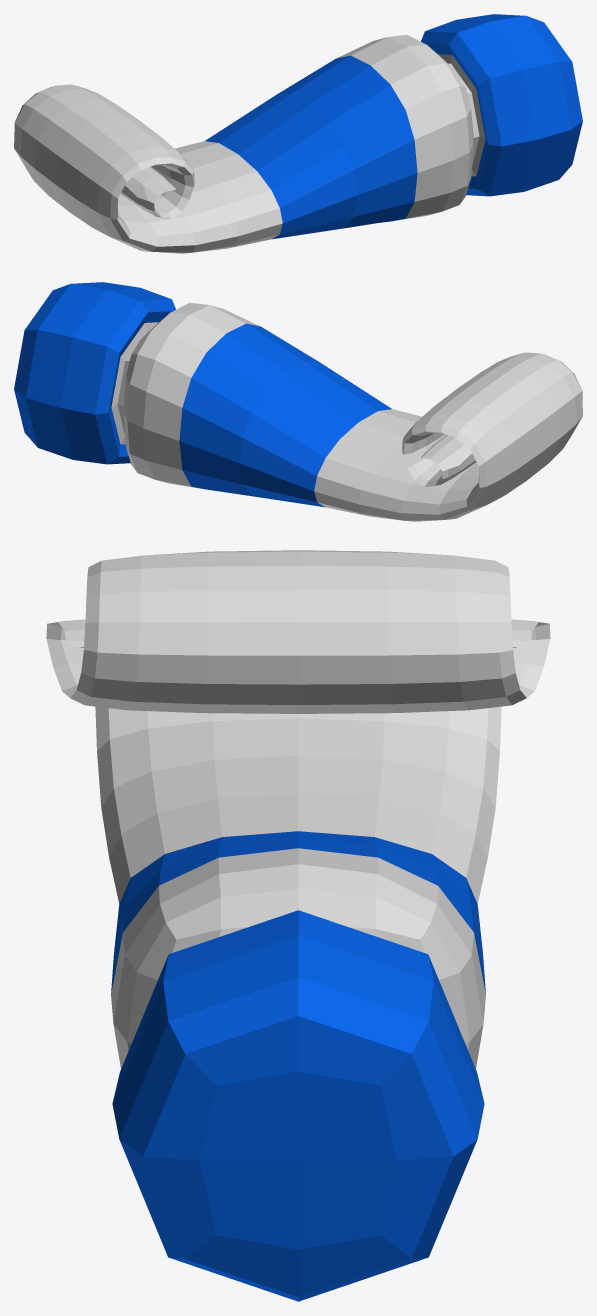
File: tube_dentifrice.fbx
3 views of the same model, one above another, from view 1: azimuth 30°, elevation 25°; view 2: azimuth 150°, elevation 25°; view 3: azimuth 270°, elevation 25° (orthographic). The views are drawn at different scales.
Parts seen in each view (by area): view 1: tube, tube.001; view 2: tube, tube.001; view 3: tube, tube.001.
Part boxes in pixels (x1,y1,x2,y2): tube: (205, 14, 582, 239); tube.001: (14, 84, 282, 253); tube: (14, 282, 391, 507); tube.001: (314, 352, 582, 521); tube: (111, 831, 485, 1301); tube.001: (46, 550, 550, 903).
Size of the model in its own units: 158 by 51.75 by 70.1.
